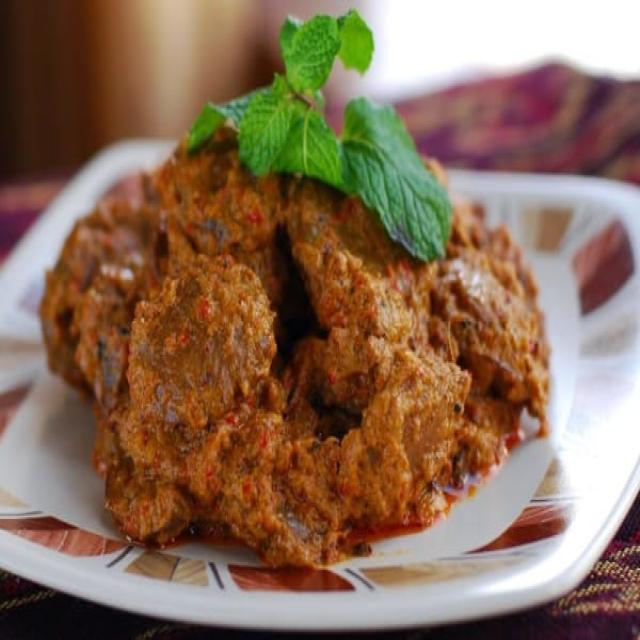Wet Waste: (43, 135, 552, 572)
